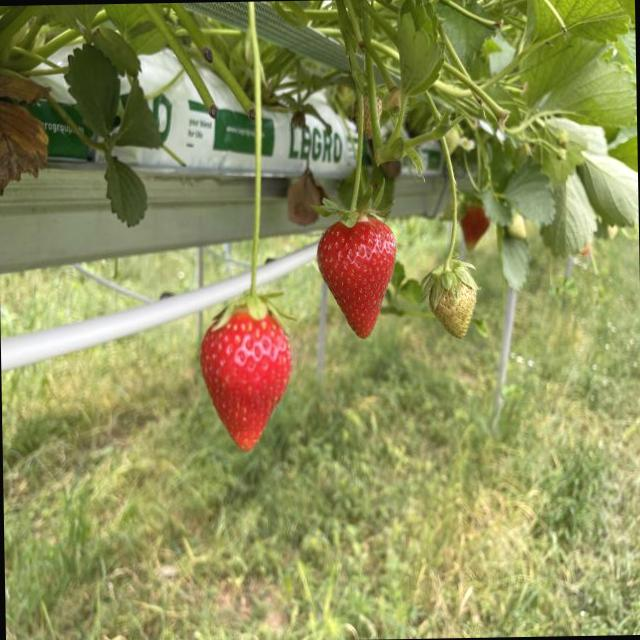stem: (211, 1, 281, 328), (325, 95, 381, 227), (423, 170, 474, 298)
strawberryNR: (431, 281, 475, 337)
strawberryR: (200, 309, 288, 448), (319, 219, 394, 335)
